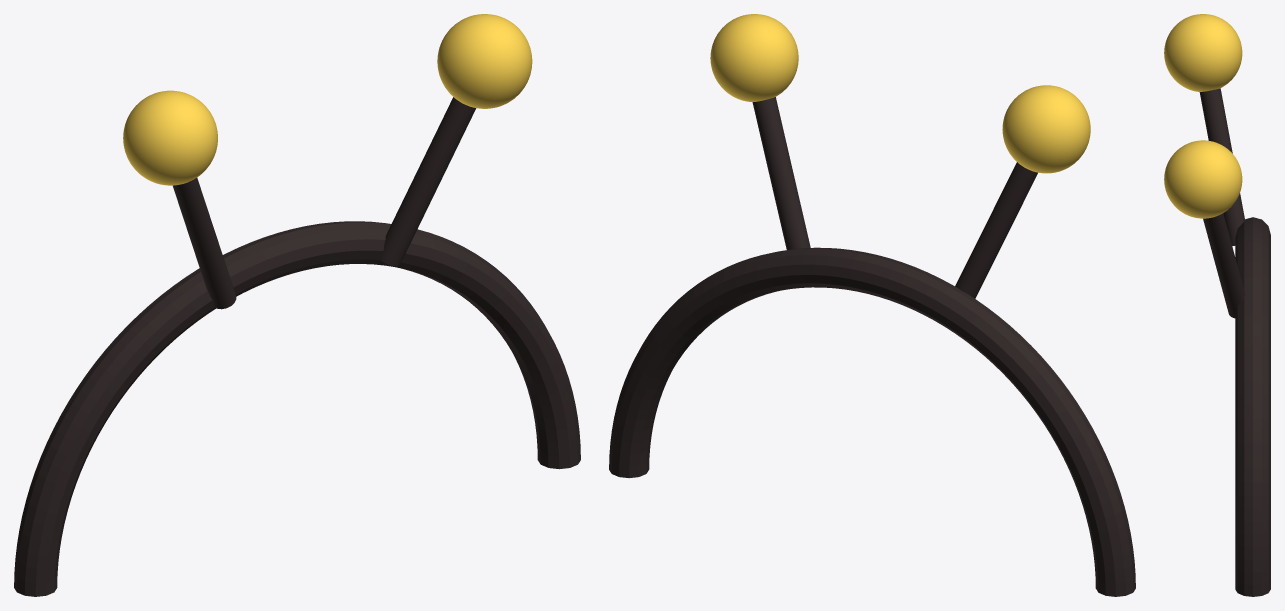
Rendered from bee_antenna.fbx.
The picture shows the model from 3 angles, left to right: view 1: azimuth 30°, elevation 25°; view 2: azimuth 150°, elevation 25°; view 3: azimuth 270°, elevation 25°; orthographic projection. The views are drawn at different scales.
Visible parts, largest first — view 1: Torus005, Sphere010, Sphere011, Cylinder006, Cylinder005; view 2: Torus005, Sphere010, Sphere011, Cylinder006, Cylinder005; view 3: Torus005, Sphere011, Sphere010, Cylinder006, Cylinder005.
Boxes of the visible parts, box(x1,y1,x2,y2) form: Torus005: box(14, 221, 580, 596); Sphere010: box(123, 90, 217, 185); Sphere011: box(437, 14, 532, 108); Cylinder006: box(379, 97, 476, 266); Cylinder005: box(173, 177, 236, 309); Torus005: box(609, 247, 1135, 596); Sphere010: box(1002, 85, 1090, 173); Sphere011: box(710, 14, 798, 101); Cylinder006: box(752, 97, 810, 249); Cylinder005: box(955, 162, 1037, 298); Torus005: box(1235, 217, 1270, 596); Sphere011: box(1164, 140, 1242, 218); Sphere010: box(1164, 14, 1242, 91); Cylinder006: box(1203, 213, 1245, 318); Cylinder005: box(1199, 88, 1245, 245).
Size of the model in its own units: 15 by 12.5 by 3.
